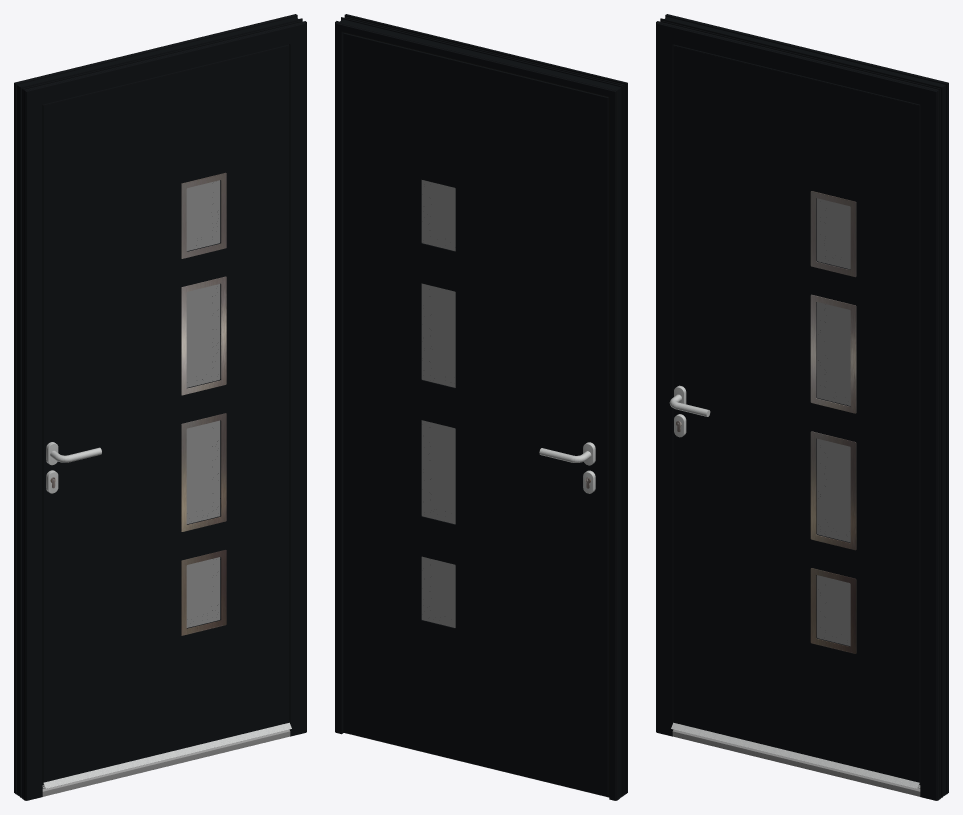
3 renders of one model, left to right at view 1: azimuth 30°, elevation 25°; view 2: azimuth 150°, elevation 25°; view 3: azimuth 330°, elevation 25°, orthographic.
Parts seen in each view (by area): view 1: bloco_65, aroFixo, Box001, alunox_41, aroMovel, rodapé, escovas, puxador001; view 2: bloco_65, aroFixo, Box001, aroMovel, puxador; view 3: bloco_65, aroFixo, Box001, alunox_41, aroMovel, rodapé, escovas, puxador001.
Part boxes in pixels (x1,y1,x2,y2): bloco_65: (44, 46, 289, 782); aroFixo: (14, 14, 306, 800); Box001: (186, 180, 220, 627); alunox_41: (181, 172, 226, 635); aroMovel: (42, 44, 289, 784); rodapé: (42, 729, 290, 796); escovas: (42, 722, 291, 788); puxador001: (46, 442, 101, 493); bloco_65: (343, 34, 607, 796); aroFixo: (335, 14, 627, 800); Box001: (421, 180, 455, 627); aroMovel: (343, 32, 609, 796); puxador: (539, 442, 595, 493); bloco_65: (673, 46, 918, 782); aroFixo: (656, 14, 948, 800); Box001: (817, 198, 850, 646); alunox_41: (810, 191, 856, 653); aroMovel: (673, 44, 920, 784); rodapé: (672, 729, 920, 796); escovas: (671, 722, 920, 788); puxador001: (669, 385, 710, 437).
Size of the model in its own units: 900 by 2165 by 209.
7 materials, 2 textured.
